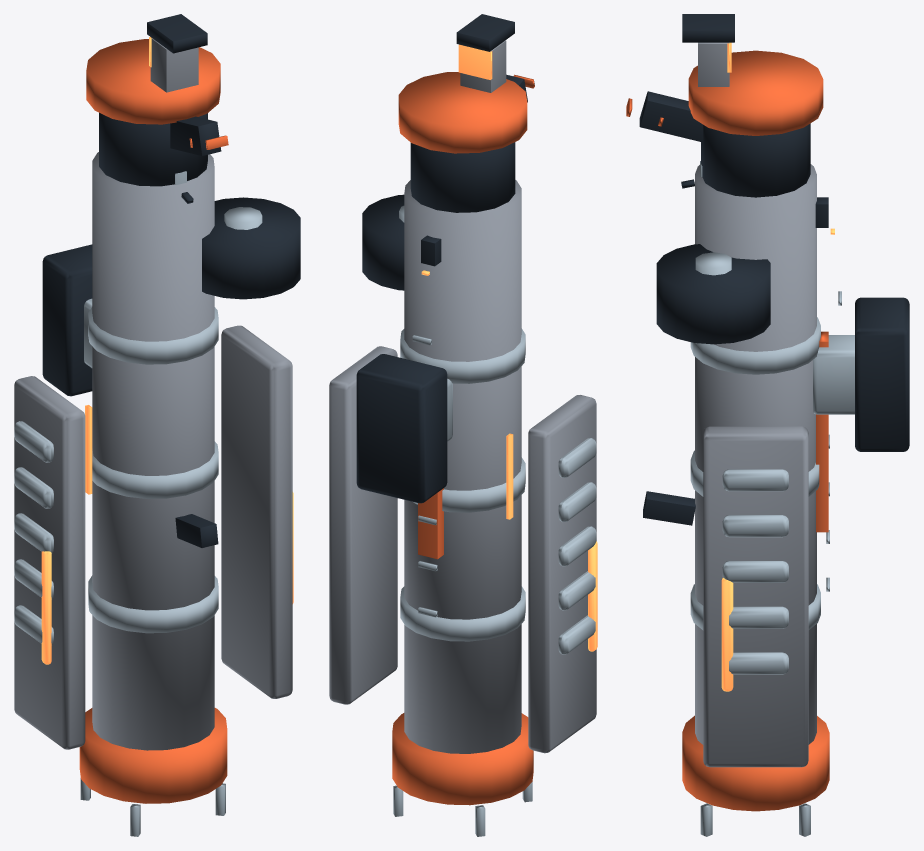
Rendered from launcher.glb.
3 views of the same model, side by side, from view 1: azimuth 30°, elevation 25°; view 2: azimuth 150°, elevation 25°; view 3: azimuth 270°, elevation 25° (orthographic). The views are drawn at different scales.
Visible parts, largest first — view 1: LaunchTube, REFIT launcher havoc tube side armor.001, REFIT launcher havoc tube side armor, FrontRing, DrumMag, RearRing, REFIT launcher rangefinder housing, RearCone, HeatBand_0, HeatBand_2, HeatBand_1, ShoulderBrace (+11 smaller); view 2: LaunchTube, REFIT launcher havoc tube side armor, REFIT launcher havoc tube side armor.001, REFIT launcher rangefinder housing, RearRing, FrontRing, RearCone, DrumMag, HeatBand_2, HeatBand_0, HeatBand_1, BracePad (+11 smaller); view 3: REFIT launcher havoc tube side armor.001, LaunchTube, DrumMag, RearRing, REFIT launcher rangefinder housing, FrontRing, RearCone, REFIT launcher rangefinder bridge, HeatBand_0, PistolGrip.003, CarryRail, BracePad (+11 smaller).
Part boxes in pixels (box(x1,y1,x2,y2)): LaunchTube: box(92, 152, 214, 750); REFIT launcher havoc tube side armor.001: box(221, 325, 292, 698); REFIT launcher havoc tube side armor: box(14, 376, 85, 749); FrontRing: box(79, 708, 227, 803); DrumMag: box(202, 197, 300, 299); RearRing: box(86, 39, 220, 124); REFIT launcher rangefinder housing: box(42, 244, 92, 396); RearCone: box(99, 112, 207, 186); HeatBand_0: box(88, 307, 218, 364); HeatBand_2: box(88, 575, 218, 633); HeatBand_1: box(92, 441, 218, 498); ShoulderBrace: box(150, 38, 198, 92); LaunchTube: box(404, 180, 521, 753); REFIT launcher havoc tube side armor: box(528, 395, 596, 753); REFIT launcher havoc tube side armor.001: box(329, 346, 397, 704); REFIT launcher rangefinder housing: box(356, 354, 447, 503); RearRing: box(398, 72, 527, 153); FrontRing: box(392, 713, 533, 805); RearCone: box(410, 142, 515, 212); DrumMag: box(362, 194, 404, 290); HeatBand_2: box(400, 586, 525, 641); HeatBand_0: box(400, 328, 525, 383); HeatBand_1: box(413, 457, 525, 512); BracePad: box(456, 14, 514, 51); REFIT launcher havoc tube side armor.001: box(703, 426, 808, 767); LaunchTube: box(695, 164, 816, 744); DrumMag: box(656, 244, 770, 344); RearRing: box(688, 50, 823, 135); REFIT launcher rangefinder housing: box(855, 297, 909, 451); FrontRing: box(682, 715, 829, 811); RearCone: box(701, 123, 810, 197); REFIT launcher rangefinder bridge: box(813, 335, 854, 414); HeatBand_0: box(690, 317, 820, 374); PistolGrip.003: box(639, 91, 703, 142); CarryRail: box(816, 331, 828, 532); BracePad: box(682, 14, 734, 42).
Bounding box in the file's own units: 0.272 × 0.8295 × 0.269.
